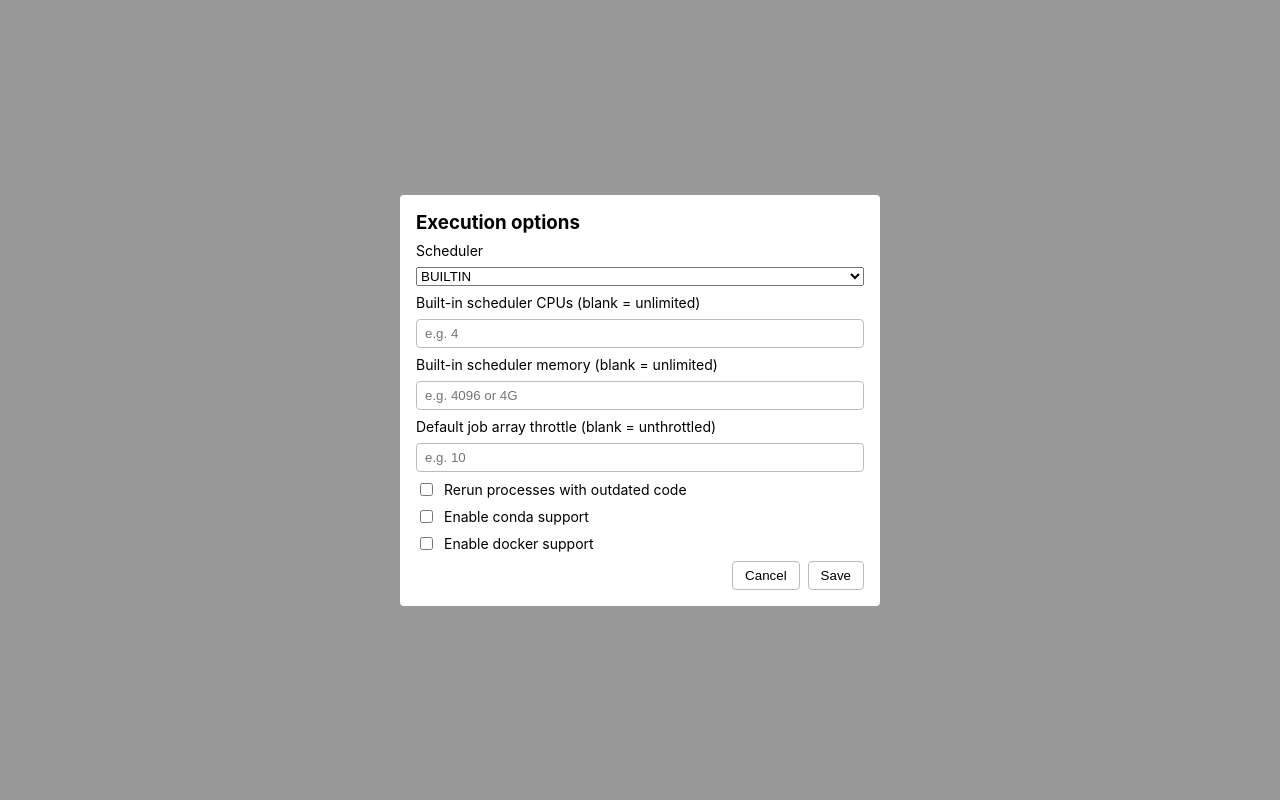
ExecutionOptionsEditor › keeps the fields of every scheduler in place, showing only those of the one chosen
Select "BUILTIN" in the dropdown at point(640, 276), box [416, 266, 864, 286]
Expected: the field with placeholder "e.g. 4" is shown, [416, 318, 864, 348]
Expected: the field with placeholder "e.g. node01,node02 or node[01-04]" is not shown
Select "SLURM" in the dropdown at point(640, 276), box [416, 266, 864, 286]
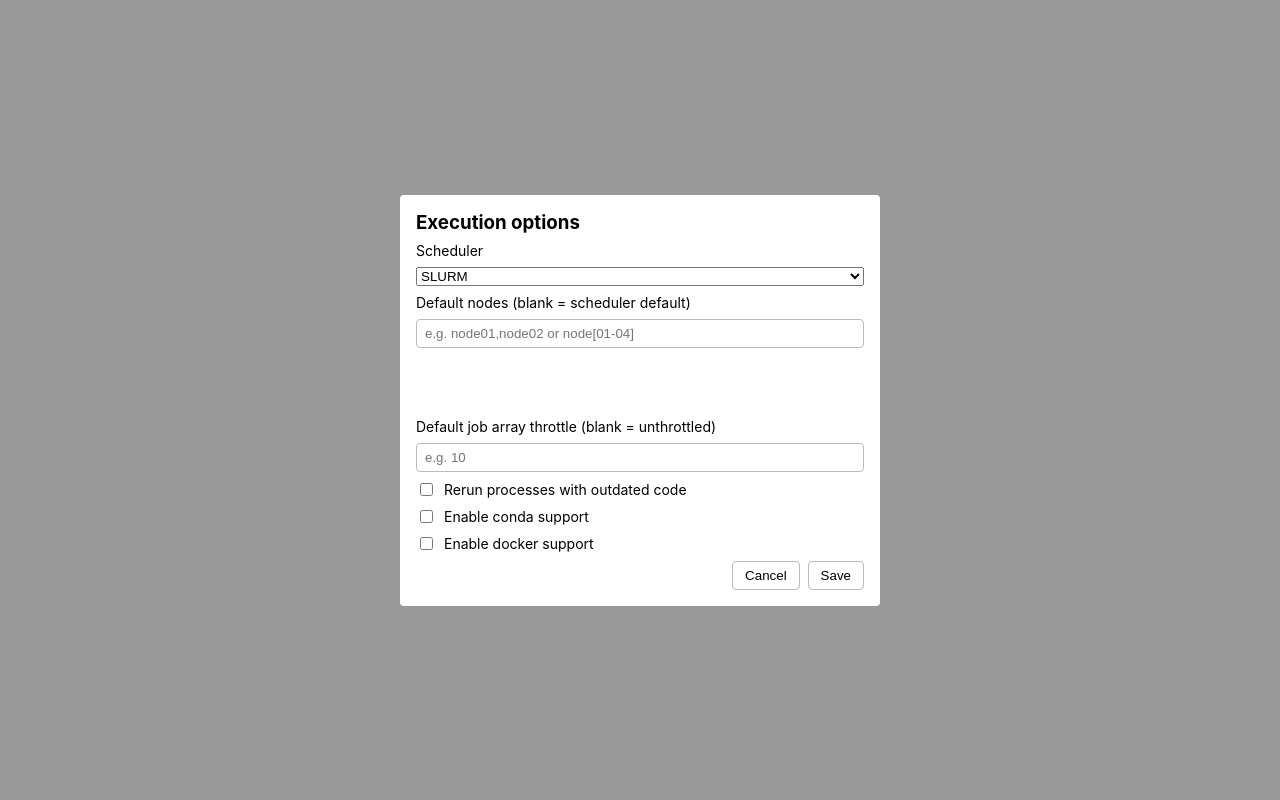
Expected: the field with placeholder "e.g. 4" is not shown
Now the field with placeholder "e.g. node01,node02 or node[01-04]" is shown, box [416, 318, 864, 348]
